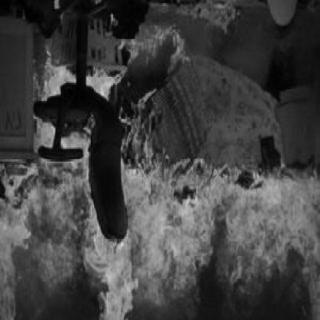Fire: (1, 166, 318, 320), (33, 24, 191, 154)
